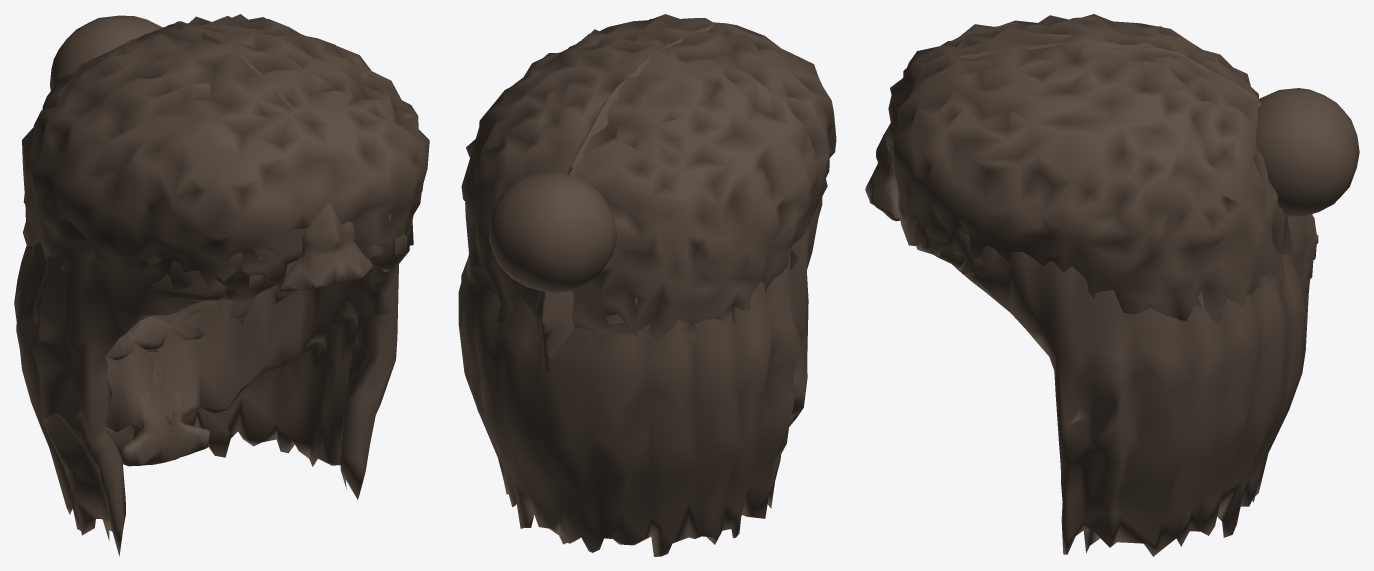
File: coiffures.glb
The picture shows the model from 3 angles, left to right: view 1: azimuth 30°, elevation 25°; view 2: azimuth 150°, elevation 25°; view 3: azimuth 270°, elevation 25°; orthographic projection. The views are drawn at different scales.
Visible parts, largest first — view 1: A__boucles, A__mi_long, A__iroquois, A__chignon; view 2: A__boucles, A__mi_long, A__chignon, A__iroquois; view 3: A__boucles, A__mi_long, A__chignon, A__iroquois.
Boxes of the visible parts, <box> form: A__boucles: <box>22,14,429,360</box>; A__mi_long: <box>14,213,413,556</box>; A__iroquois: <box>120,21,373,466</box>; A__chignon: <box>50,15,410,351</box>; A__boucles: <box>461,14,836,343</box>; A__mi_long: <box>458,197,822,556</box>; A__chignon: <box>489,172,616,293</box>; A__iroquois: <box>534,24,713,372</box>; A__boucles: <box>886,14,1293,323</box>; A__mi_long: <box>899,188,1308,556</box>; A__chignon: <box>898,88,1359,276</box>; A__iroquois: <box>865,40,1318,296</box>.
Size of the model in its own units: 0.2066 by 0.2689 by 0.2581.
